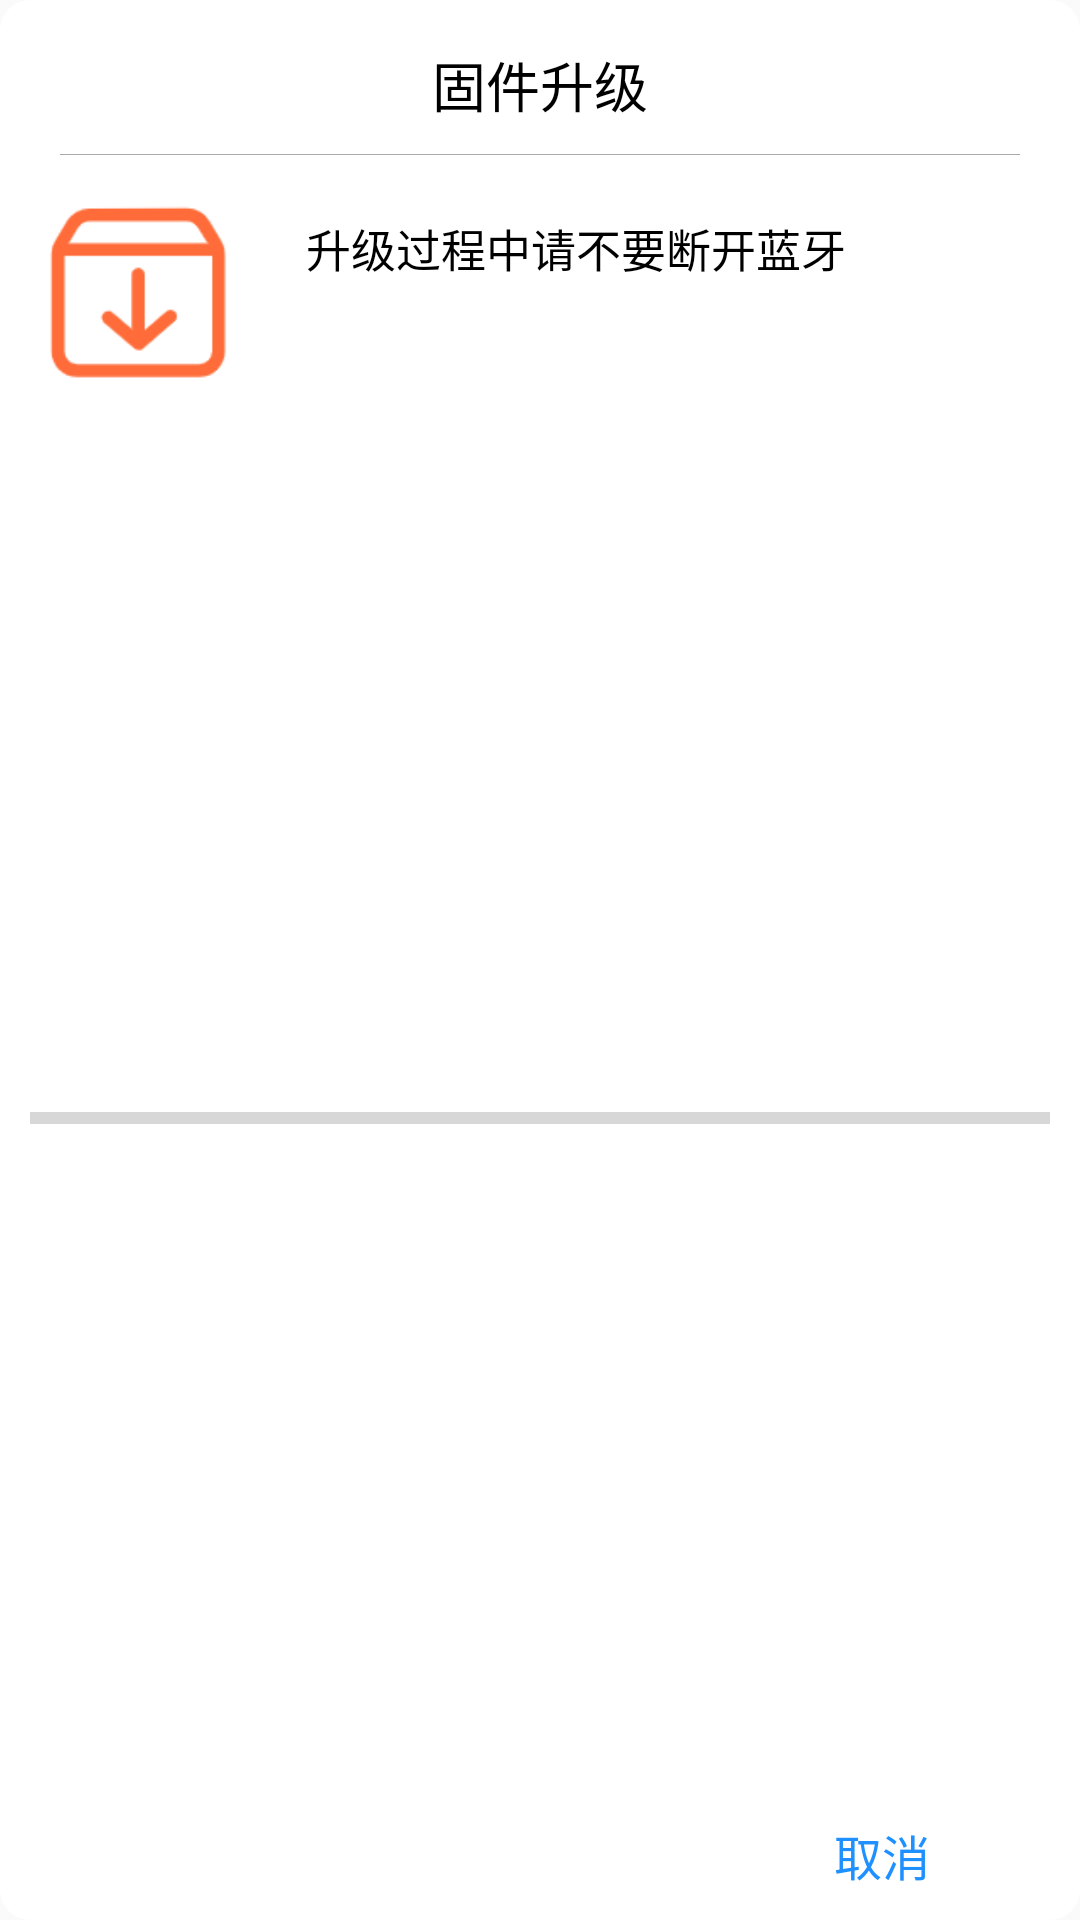

Point at icon controls on the screen. Image size 1080×1920, points as (x,y).
update: (138,292)
